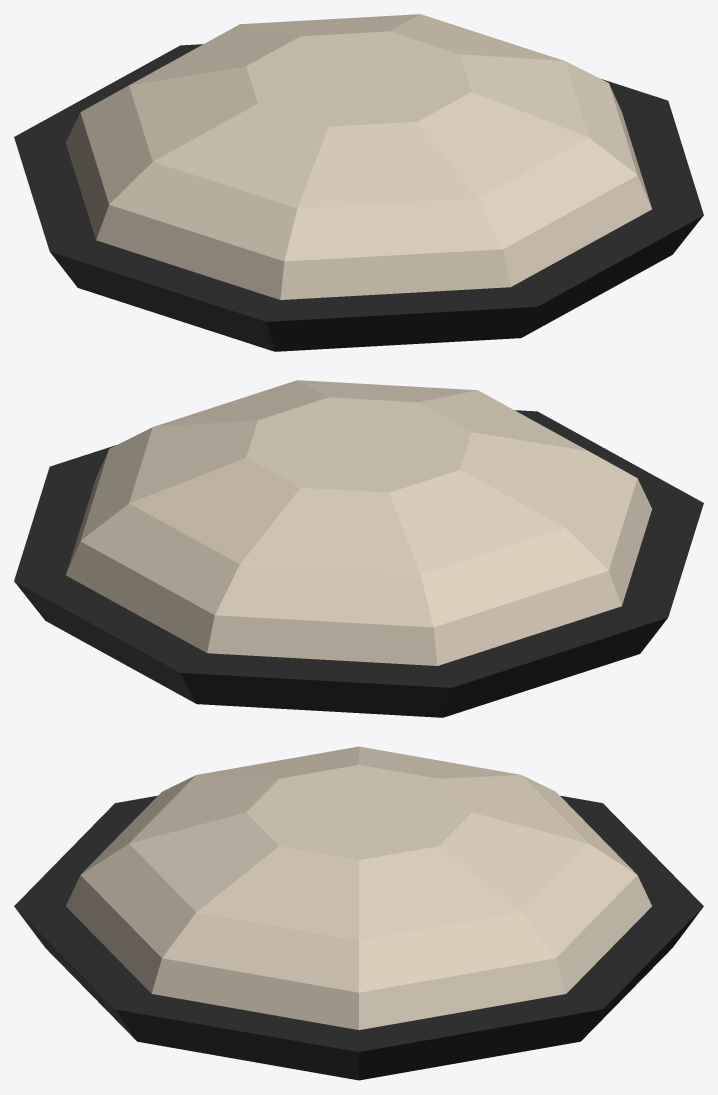
The model's file is Lamp.fbx.
3 views of the same model, one above another, from view 1: azimuth 30°, elevation 25°; view 2: azimuth 150°, elevation 25°; view 3: azimuth 270°, elevation 25° (orthographic). The views are drawn at different scales.
Visible parts, largest first — view 1: Light; view 2: Light; view 3: Light.
Boxes of the visible parts, x1,y1,x2,y2 form: Light: (14,14,703,351); Light: (14,380,703,717); Light: (14,746,703,1080).
Size of the model in its own units: 30 by 6.5 by 30.
